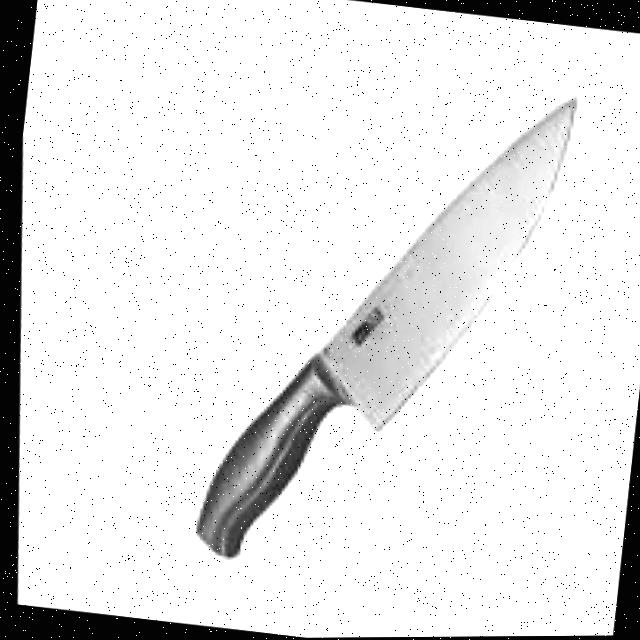knife: (178, 50, 587, 597)
